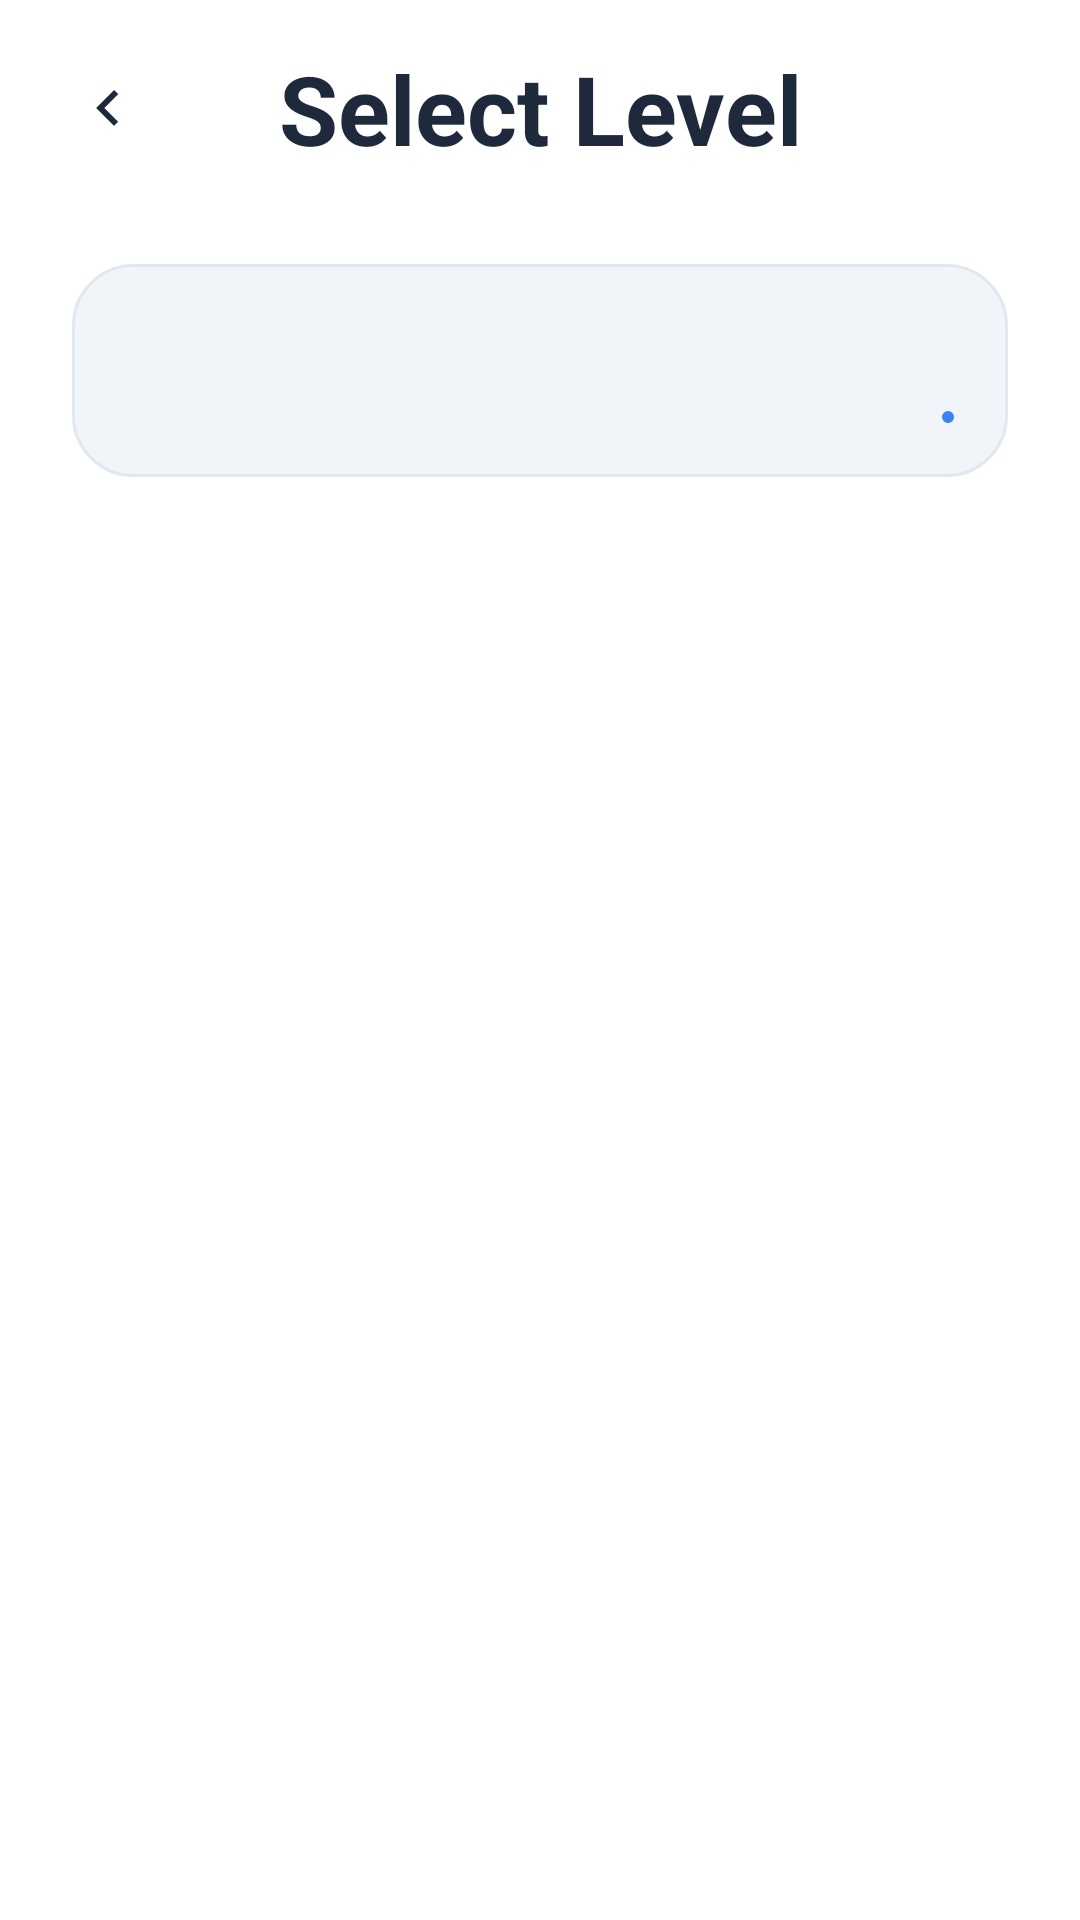

Point at icon controls on the screen. Image size 1080x1920, points as (x=x, y=y).
Back: (x=107, y=108)
